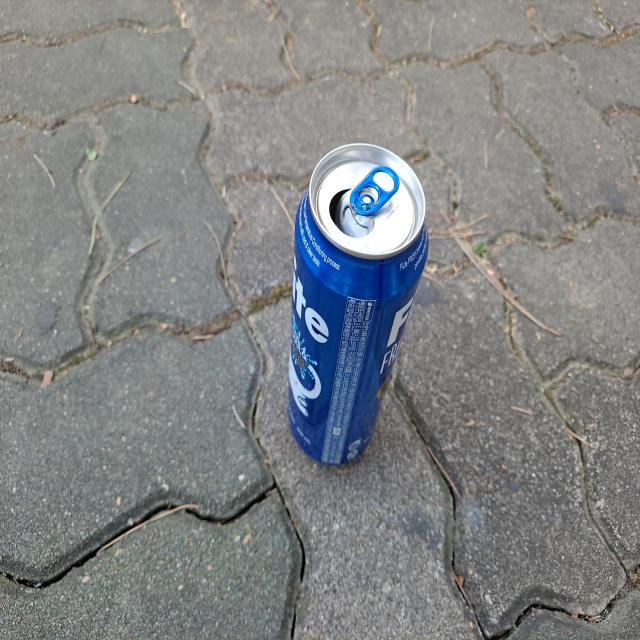can: (288, 142, 429, 465)
